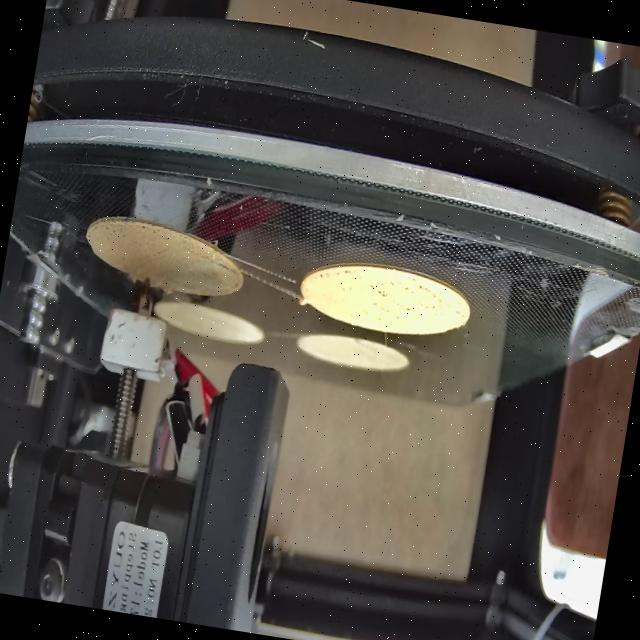under_extrusion: (366, 272, 448, 331), (90, 214, 160, 255), (312, 258, 358, 291), (200, 251, 245, 276)
